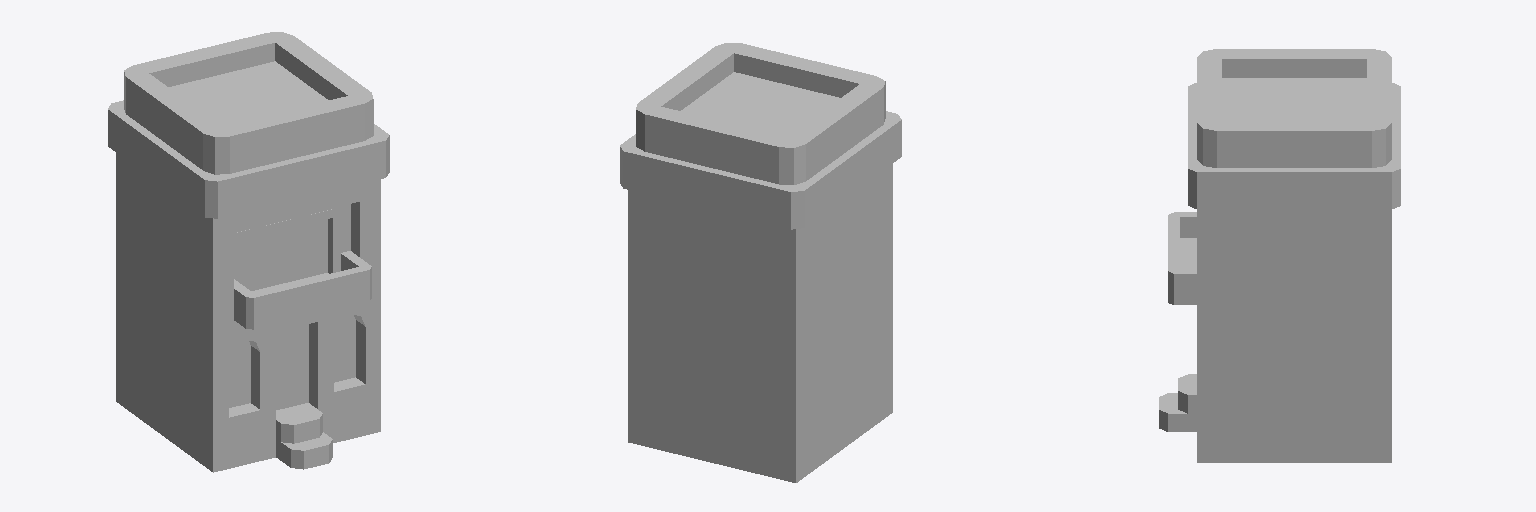
File: building-sample-tower-b.obj
3 renders of one model, left to right at view 1: azimuth 30°, elevation 25°; view 2: azimuth 150°, elevation 25°; view 3: azimuth 270°, elevation 25°, orthographic.
Parts seen in each view (by area): view 1: building-sample-tower-b; view 2: building-sample-tower-b; view 3: building-sample-tower-b.
Part boxes in pixels (bbox=[...]): building-sample-tower-b: bbox=[108, 32, 389, 472]; building-sample-tower-b: bbox=[620, 43, 901, 482]; building-sample-tower-b: bbox=[1159, 49, 1400, 462].
Bounding box in the file's own units: 1.1 × 1.89 × 1.25.